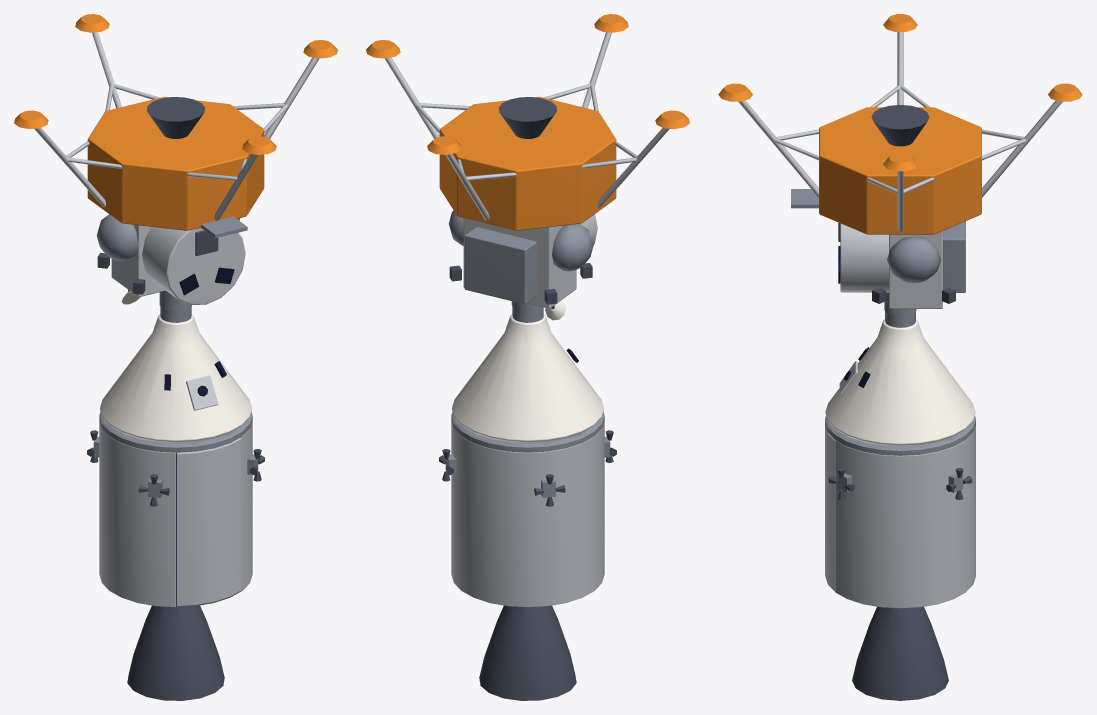
File: Ship_Stack.glb
The picture shows the model from 3 angles, left to right: view 1: azimuth 30°, elevation 25°; view 2: azimuth 150°, elevation 25°; view 3: azimuth 270°, elevation 25°; orthographic projection.
Visible parts, largest first — view 1: Ship_LM.Descent, Ship_SM.Skin, Ship_CM.Cone, Ship_SM.Move_Panel4, Ship_SM.Nozzle, Ship_LM.Cabin, Ship_LM.Legs, Ship_LM.Pads, Ship_LM.DescentNozzle, Ship_SM.TopRing, Ship_LM.Tank1, Ship_LM.Mid (+2 smaller); view 2: Ship_SM.Skin, Ship_LM.Descent, Ship_CM.Cone, Ship_SM.Nozzle, Ship_LM.AftBay, Ship_LM.Legs, Ship_LM.Mid, Ship_LM.Pads, Ship_LM.DescentNozzle, Ship_SM.TopRing, Ship_LM.Tank1, Ship_LM.Jets; view 3: Ship_SM.Skin, Ship_LM.Descent, Ship_CM.Cone, Ship_SM.Nozzle, Ship_LM.Legs, Ship_LM.Cabin, Ship_LM.Mid, Ship_LM.Pads, Ship_LM.Tank0, Ship_LM.DescentNozzle, Ship_SM.TopRing, Ship_SM.Move_Panel4 (+1 smaller).
Part boxes in pixels (x1=…): Ship_LM.Descent: x1=87, y1=96, x2=264, y2=230; Ship_SM.Skin: x1=99, y1=421, x2=252, y2=607; Ship_CM.Cone: x1=100, y1=314, x2=251, y2=442; Ship_SM.Move_Panel4: x1=176, y1=437, x2=241, y2=606; Ship_SM.Nozzle: x1=127, y1=605, x2=224, y2=700; Ship_LM.Cabin: x1=142, y1=227, x2=245, y2=304; Ship_LM.Legs: x1=34, y1=32, x2=318, y2=220; Ship_LM.Pads: x1=14, y1=14, x2=337, y2=154; Ship_LM.DescentNozzle: x1=147, y1=97, x2=204, y2=138; Ship_SM.TopRing: x1=99, y1=412, x2=252, y2=452; Ship_LM.Tank1: x1=96, y1=214, x2=138, y2=261; Ship_LM.Mid: x1=111, y1=224, x2=165, y2=296; Ship_SM.Skin: x1=451, y1=421, x2=604, y2=607; Ship_LM.Descent: x1=439, y1=96, x2=616, y2=230; Ship_CM.Cone: x1=452, y1=314, x2=603, y2=442; Ship_SM.Nozzle: x1=479, y1=605, x2=576, y2=700; Ship_LM.AftBay: x1=464, y1=227, x2=536, y2=304; Ship_LM.Legs: x1=385, y1=32, x2=669, y2=220; Ship_LM.Mid: x1=463, y1=218, x2=576, y2=308; Ship_LM.Pads: x1=366, y1=14, x2=689, y2=154; Ship_LM.DescentNozzle: x1=499, y1=97, x2=556, y2=138; Ship_SM.TopRing: x1=451, y1=412, x2=604, y2=452; Ship_LM.Tank1: x1=552, y1=223, x2=593, y2=271; Ship_LM.Jets: x1=449, y1=263, x2=592, y2=304; Ship_SM.Skin: x1=835, y1=425, x2=975, y2=608; Ship_LM.Descent: x1=819, y1=107, x2=981, y2=234; Ship_CM.Cone: x1=825, y1=319, x2=975, y2=446; Ship_SM.Nozzle: x1=852, y1=606, x2=948, y2=700; Ship_LM.Legs: x1=738, y1=32, x2=1062, y2=231; Ship_LM.Cabin: x1=840, y1=223, x2=888, y2=292; Ship_LM.Mid: x1=889, y1=231, x2=942, y2=308; Ship_LM.Pads: x1=718, y1=14, x2=1082, y2=171; Ship_LM.Tank0: x1=887, y1=237, x2=940, y2=282; Ship_LM.DescentNozzle: x1=871, y1=105, x2=929, y2=146; Ship_SM.TopRing: x1=825, y1=415, x2=975, y2=455; Ship_SM.Move_Panel4: x1=825, y1=425, x2=835, y2=590.
Size of the model in its own units: 9.36 by 16.85 by 9.4.
Materials: 1 (1 with a texture image).
